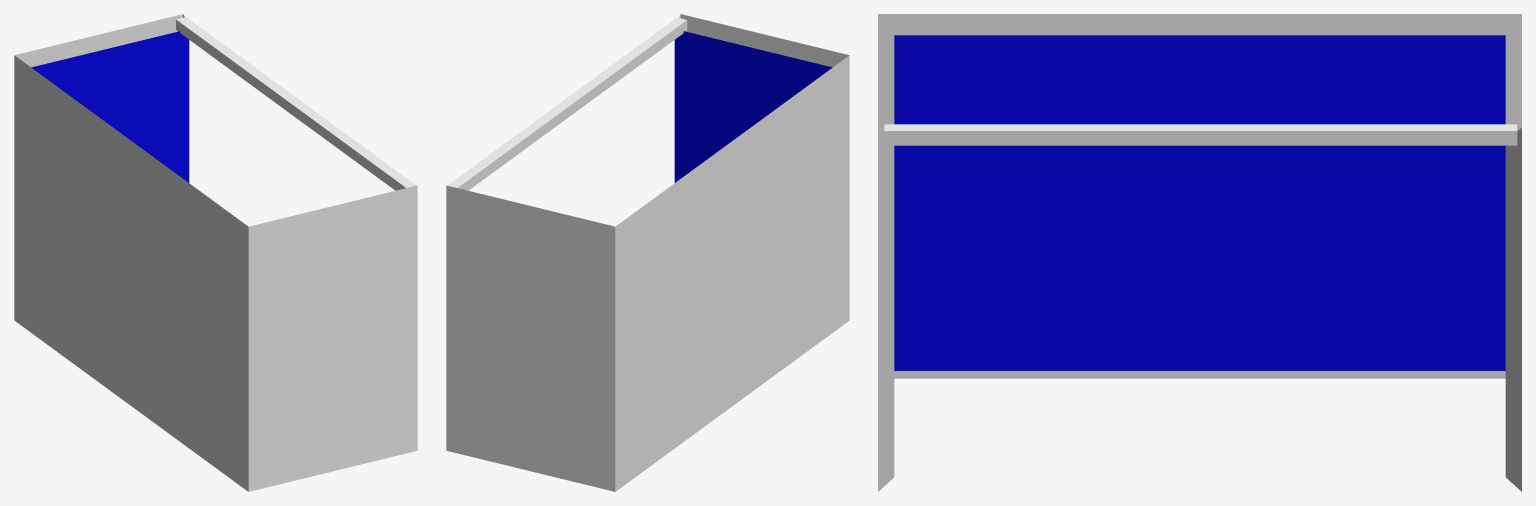
Rendered from BlueGoal.DAE.
The picture shows the model from 3 angles, left to right: view 1: azimuth 30°, elevation 25°; view 2: azimuth 150°, elevation 25°; view 3: azimuth 270°, elevation 25°; orthographic projection. The views are drawn at different scales.
Parts seen in each view (by area): view 1: YellowGoal_Main01, YellowGoal_Bar01; view 2: YellowGoal_Main01, YellowGoal_Bar01; view 3: YellowGoal_Main01, YellowGoal_Bar01.
Part boxes in pixels (bbox=[...]): YellowGoal_Main01: bbox=[14, 14, 417, 491]; YellowGoal_Bar01: bbox=[176, 17, 415, 190]; YellowGoal_Main01: bbox=[446, 14, 849, 491]; YellowGoal_Bar01: bbox=[448, 17, 687, 190]; YellowGoal_Main01: bbox=[878, 14, 1521, 491]; YellowGoal_Bar01: bbox=[884, 124, 1517, 145].
Bounding box in the file's own units: 503 × 1200 × 750.
